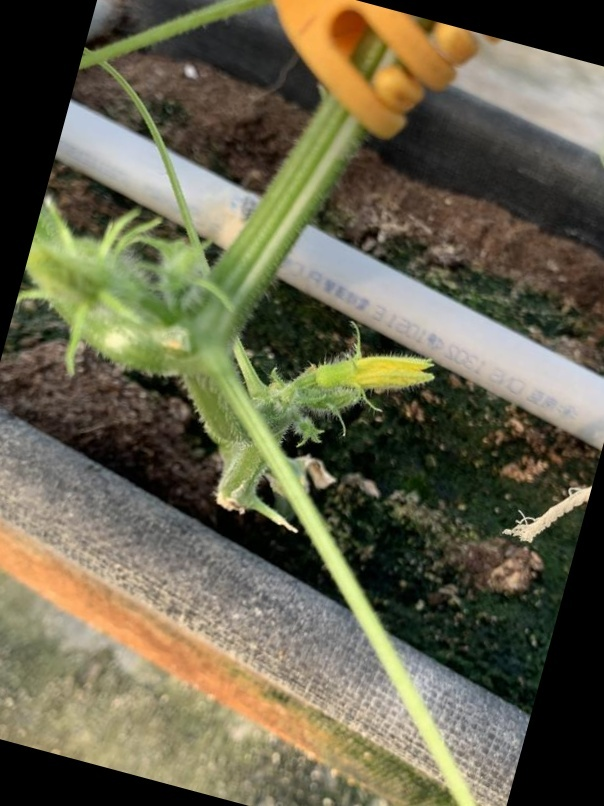bud: (301, 350, 435, 411)
